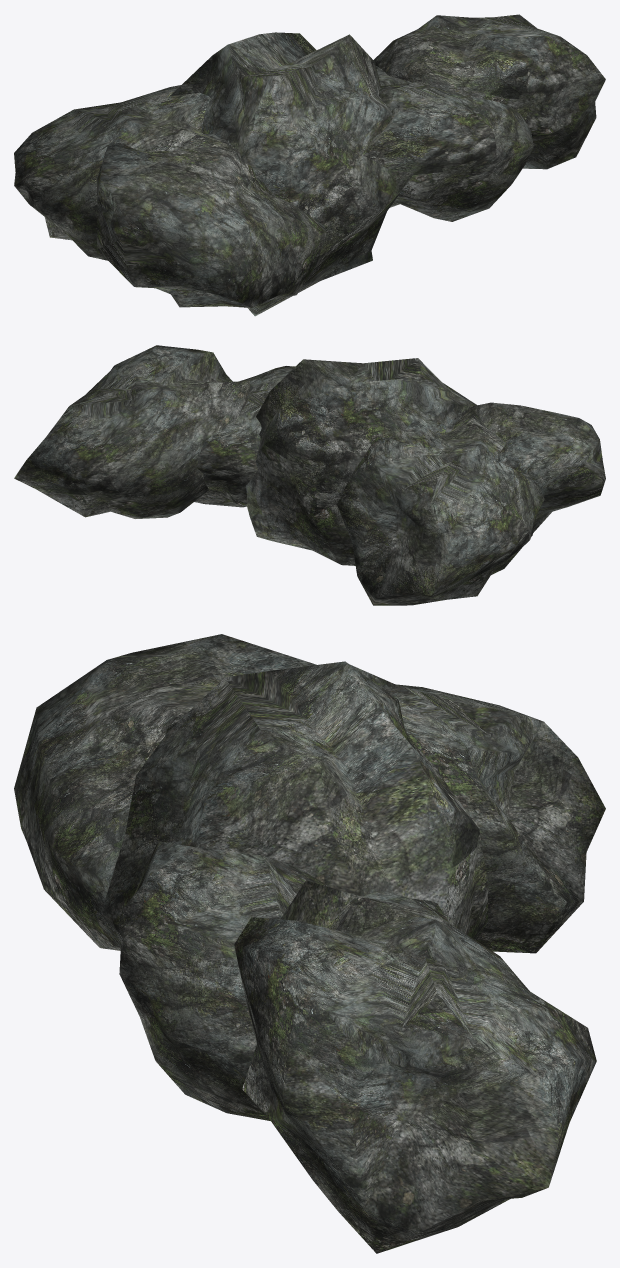
The model's file is Rock_5.fbx.
3 renders of one model, top to bottom at view 1: azimuth 30°, elevation 25°; view 2: azimuth 150°, elevation 25°; view 3: azimuth 270°, elevation 25°, orthographic. The views are drawn at different scales.
Parts seen in each view (by area): view 1: Rock_5; view 2: Rock_5; view 3: Rock_5.
Part boxes in pixels (bbox=[...]): Rock_5: bbox=[14, 14, 605, 316]; Rock_5: bbox=[14, 345, 605, 605]; Rock_5: bbox=[14, 634, 605, 1253].
Size of the model in its own units: 384 by 157 by 224.
